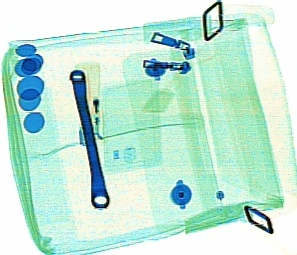lighter: (75, 61, 102, 147)
